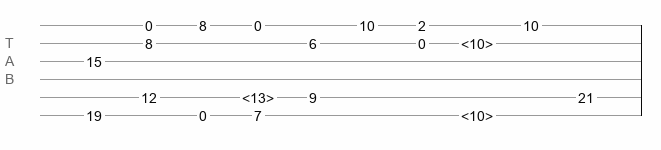0: (145, 18, 153, 28), (199, 108, 207, 118), (254, 18, 262, 28), (418, 36, 426, 46)
10: (359, 18, 375, 28), (523, 18, 539, 28)
12: (141, 90, 157, 100)
15: (86, 54, 102, 64)
19: (86, 108, 102, 118)
2: (418, 18, 426, 28)
21: (578, 90, 594, 100)
6: (309, 36, 317, 46)
7: (254, 108, 262, 118)
8: (145, 36, 153, 46), (199, 18, 207, 28)
9: (309, 90, 317, 100)
harmonic: (242, 90, 274, 100), (461, 36, 493, 46), (461, 108, 493, 118)
